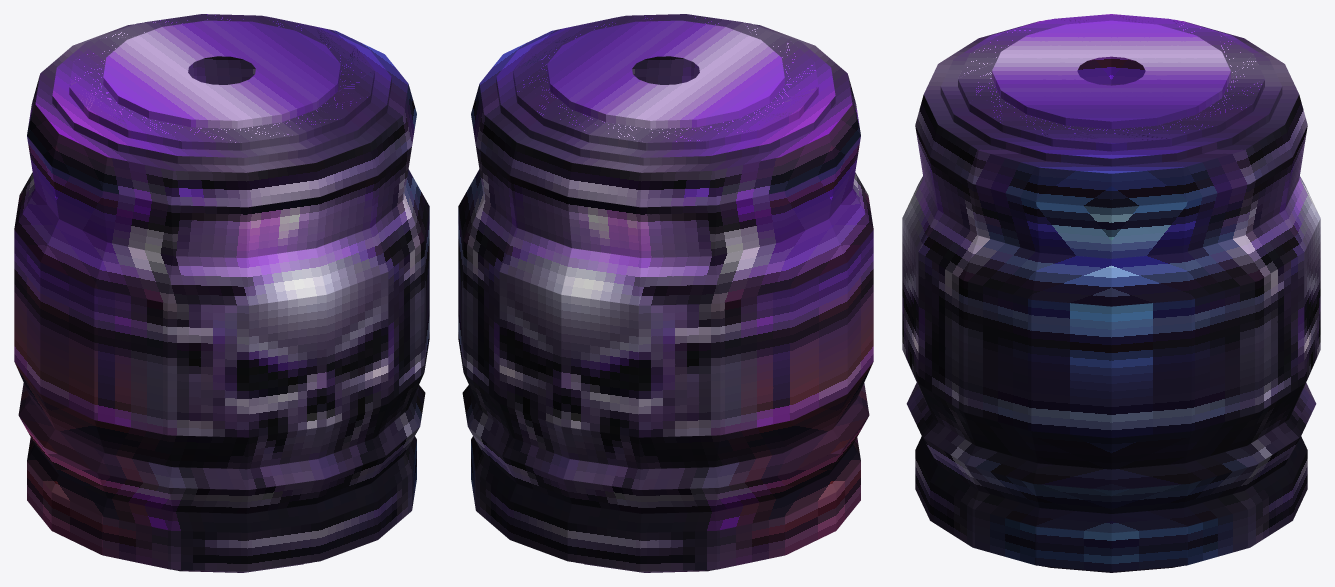
File: barrel-poison.obj
3 views of the same model, side by side, from view 1: azimuth 30°, elevation 25°; view 2: azimuth 150°, elevation 25°; view 3: azimuth 270°, elevation 25° (orthographic).
Size of the model in its own units: 0.3796 by 0.4492 by 0.3796.
